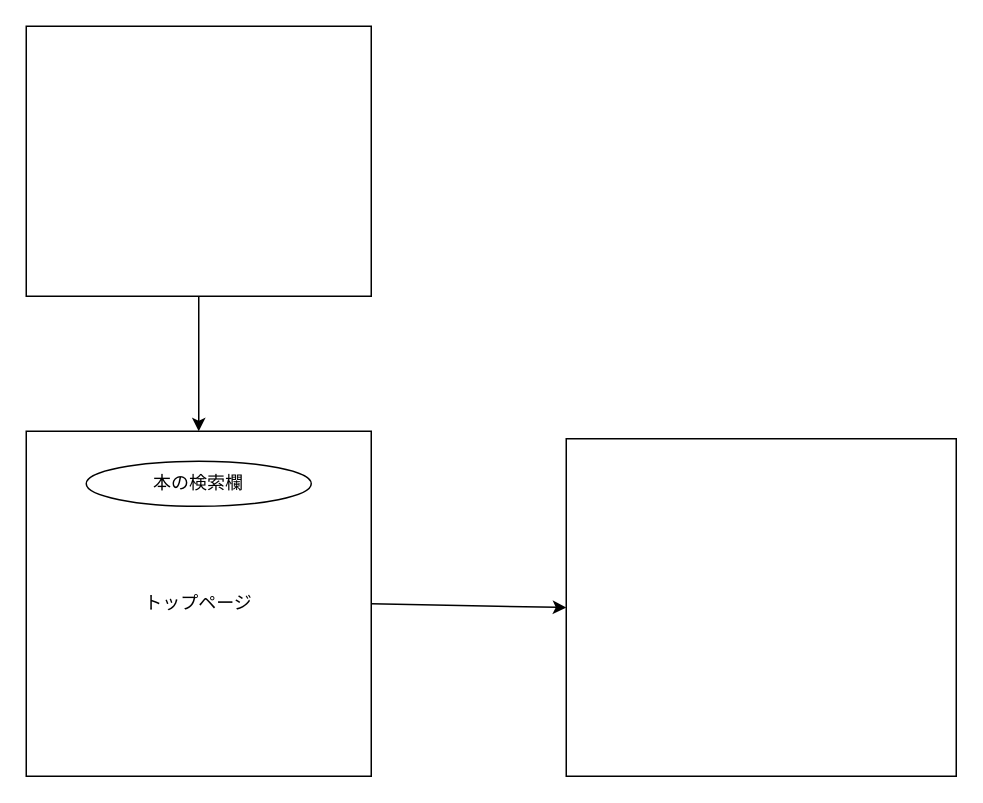
The diagram is 983 pixels wide and 803 high, and some of its shapes have lost their labels. Each missing label, with the box of its shape:
ログイン画面: (25, 25, 371, 296)
詳細ページ(発売履歴表示等): (565, 437, 956, 776)
